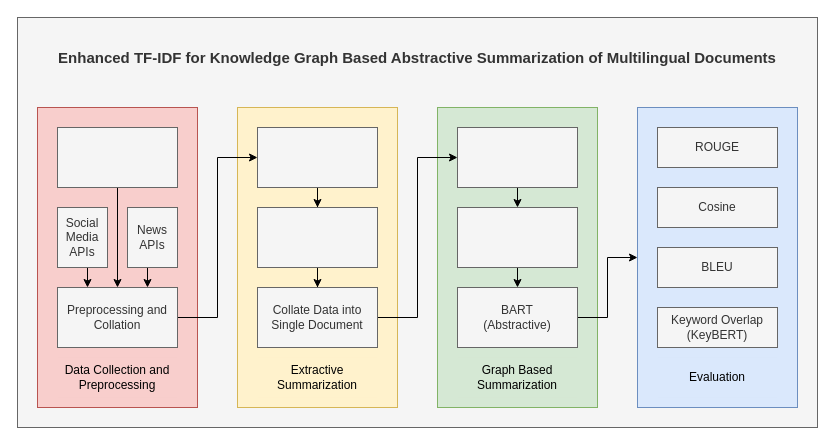
Image size: 835x445. Some labels were removed from this diagram. Here are the shapes that lost their labels. From the top down, the centre of each, then its label:
At point (117, 157): "Crawling News Websites".
At point (317, 157): "Enhanced TF-IDF (Extractive)".
At point (517, 157): "Key Word Extraction (SVO)".
At point (317, 237): "Translation".
At point (517, 237): "Knowledge Graph Construction".
